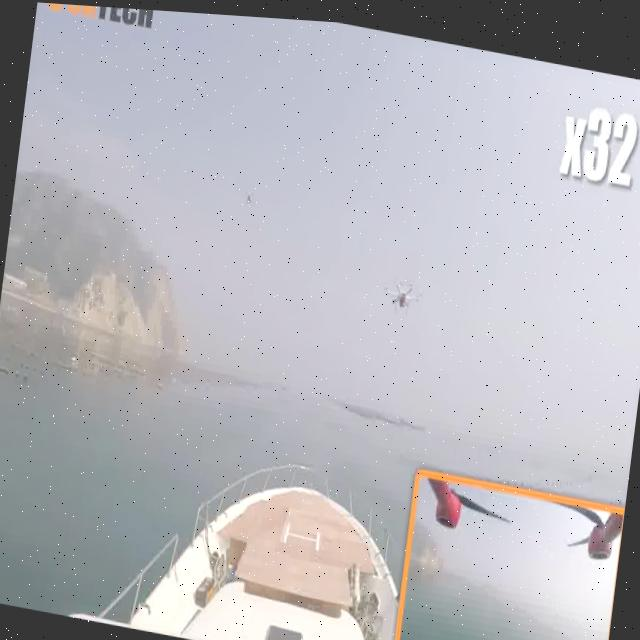drone: (228, 167, 268, 228)
